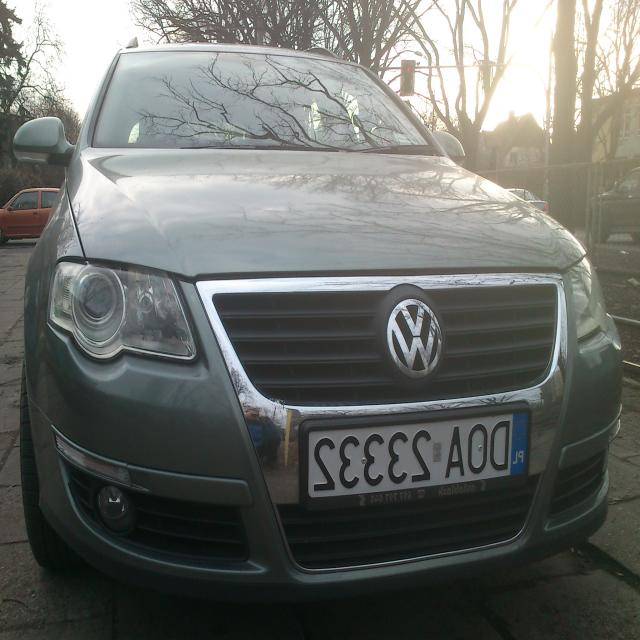pl_license_plate: (304, 409, 529, 498)
